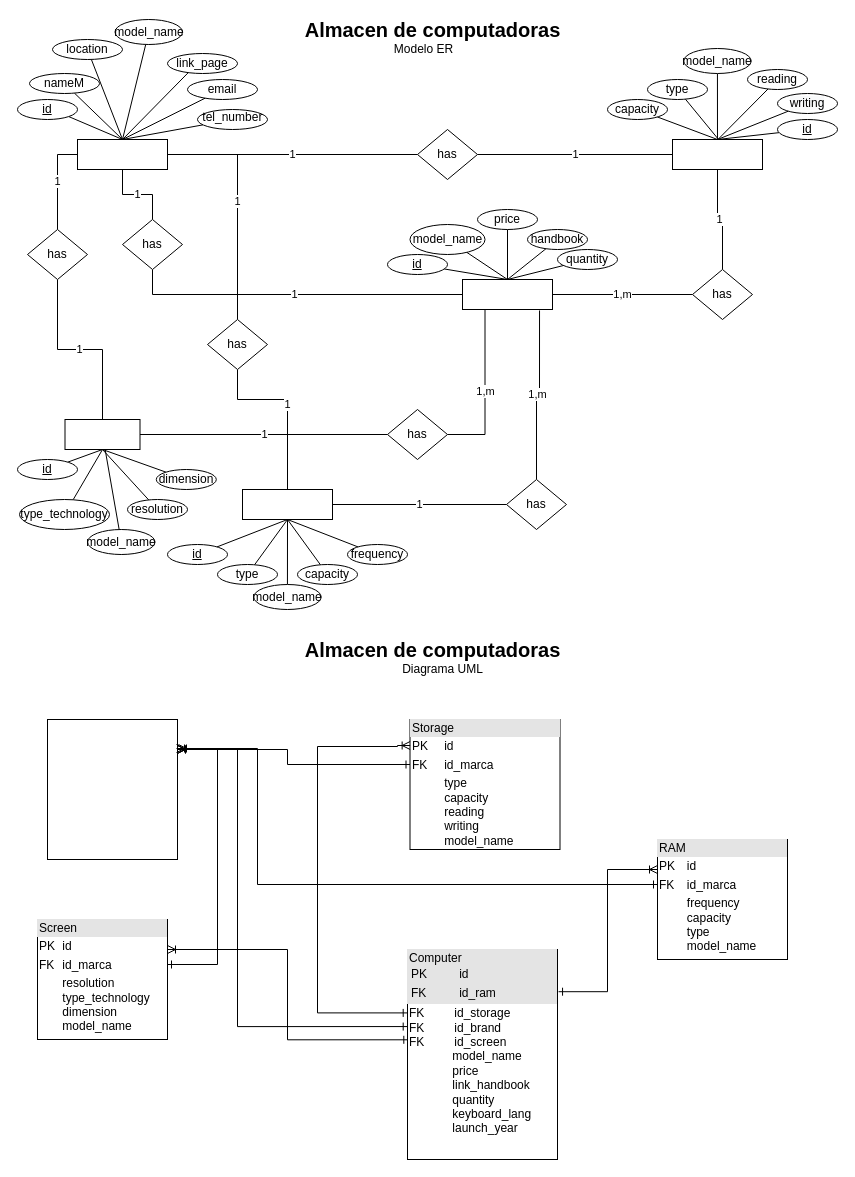
Image size: 855x1177. Some labels were removed from this diagram. The shapes that lost their labels are listed below. From the top down, each one's centre as x and y in pixels, then its label:
At (x=122, y=154): "Brand".
At (x=717, y=154): "Storage".
At (x=507, y=294): "Computer".
At (x=102, y=434): "Screen".
At (x=287, y=504): "RAM".
At (x=112, y=789): "Brand PK id nameM location link_page email tel_number model_name".
